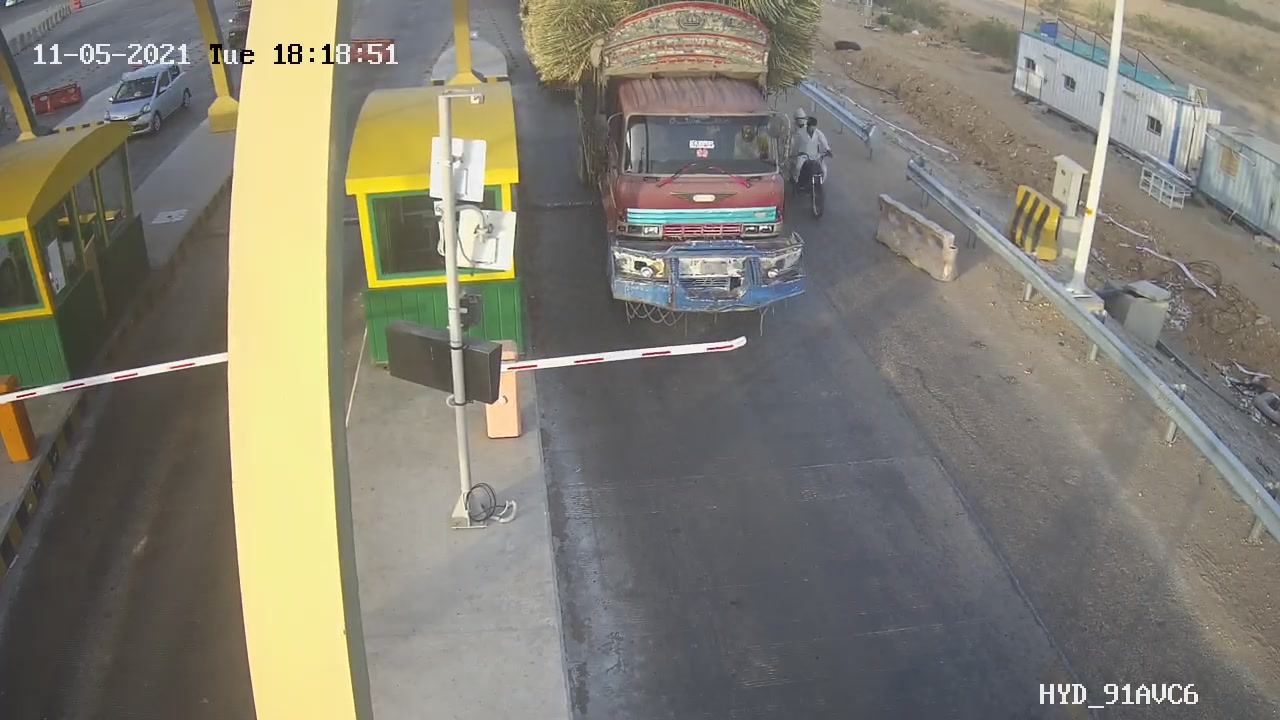F5: (567, 1, 811, 324)
